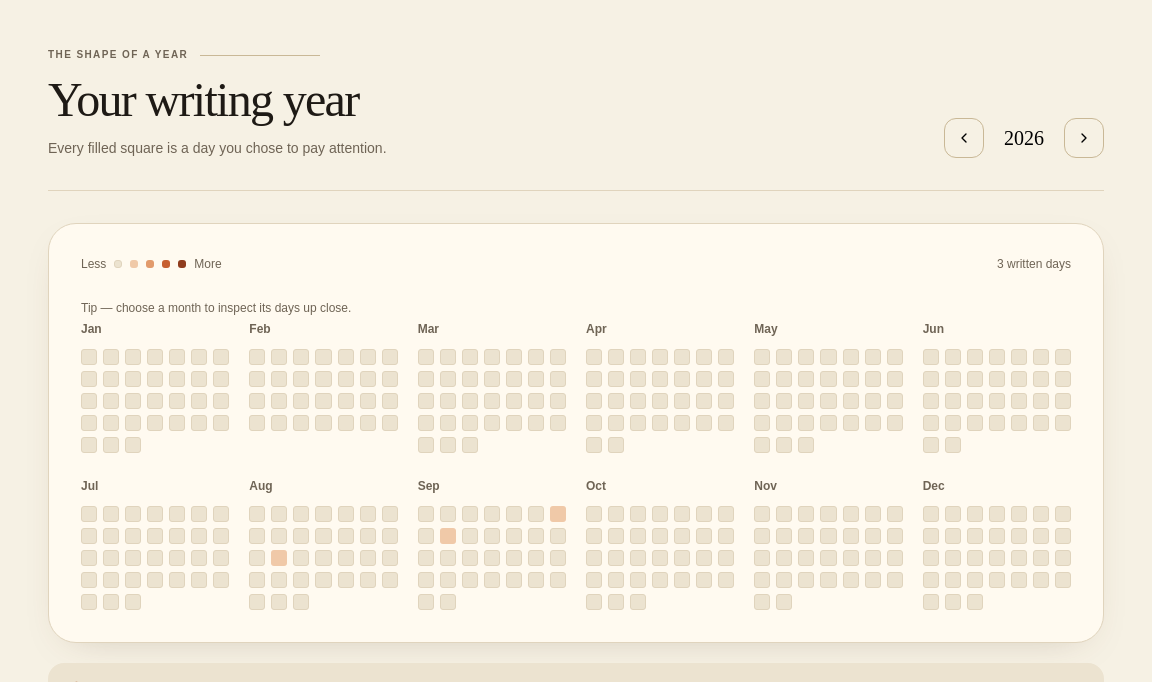
Calendar › zooms into a month with numbered, navigable days
Check: the element with test id "calendar-month-9" is shown, box left=418, top=473, right=566, bottom=610
Step 1. Click the button with test id "calendar-zoom-month-9" → (429, 486), box left=418, top=478, right=440, bottom=494
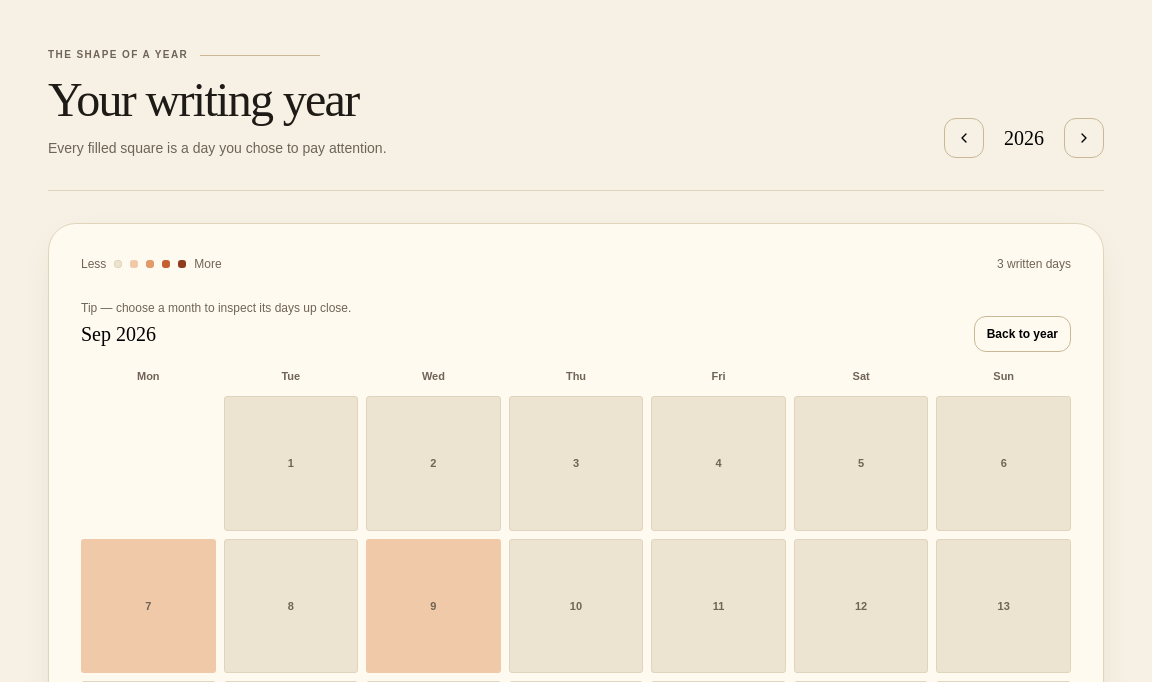
Check: the heading with test id "calendar-zoom-heading" shows "Sep", box left=81, top=323, right=111, bottom=345
Check: the element with test id "calendar-zoom-weekdays" shows "Mon", box left=137, top=370, right=160, bottom=382
Check: the element with test id "calendar-month-grid" is gone
Step 2. Click the button with test id "calendar-zoom-back" → (1022, 334), box left=974, top=316, right=1071, bottom=352
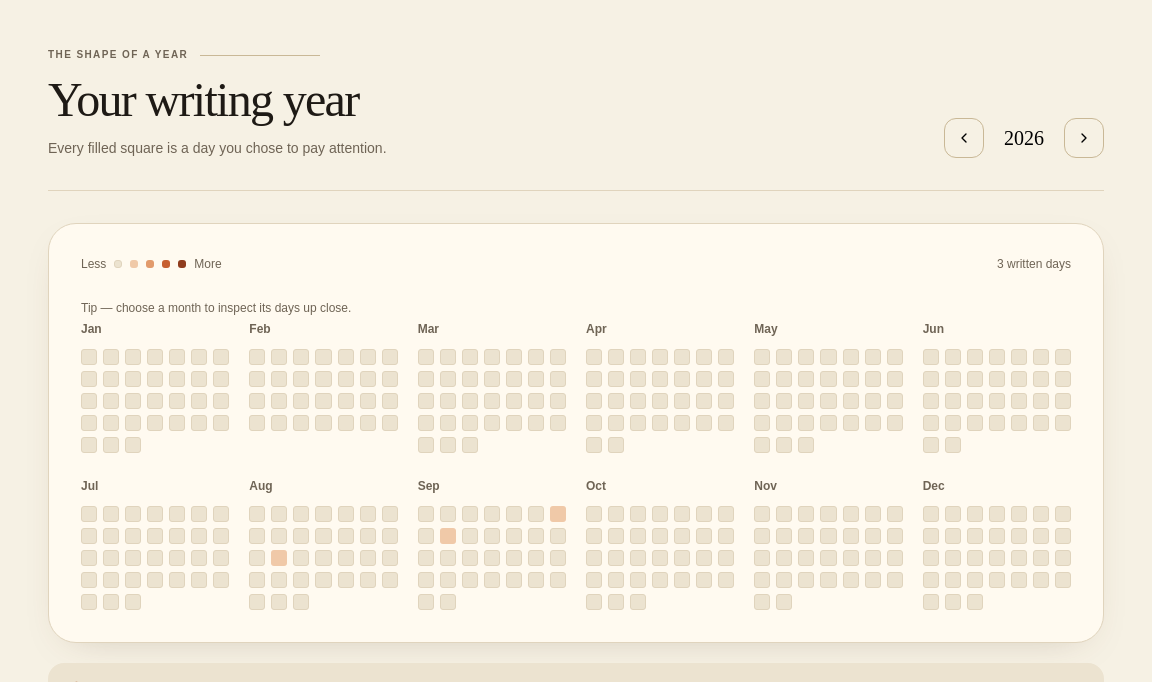
Check: the element with test id "calendar-month-grid" is shown, box left=81, top=316, right=1071, bottom=610
